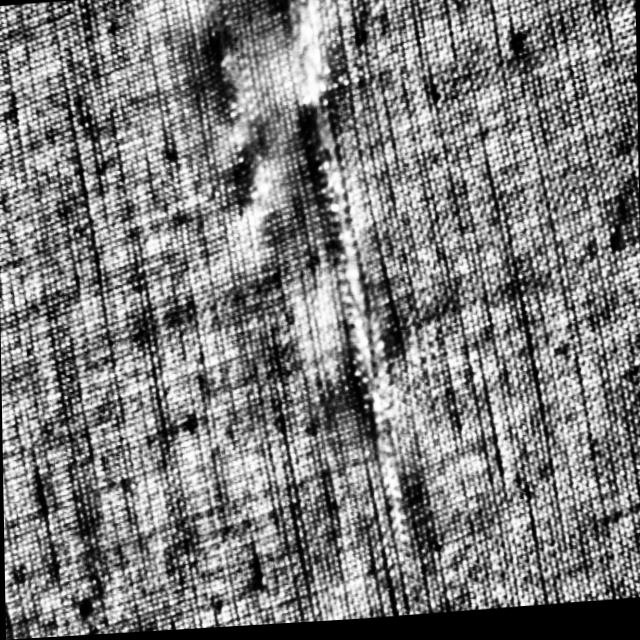Stitch: (252, 2, 428, 455), (182, 7, 299, 254)
